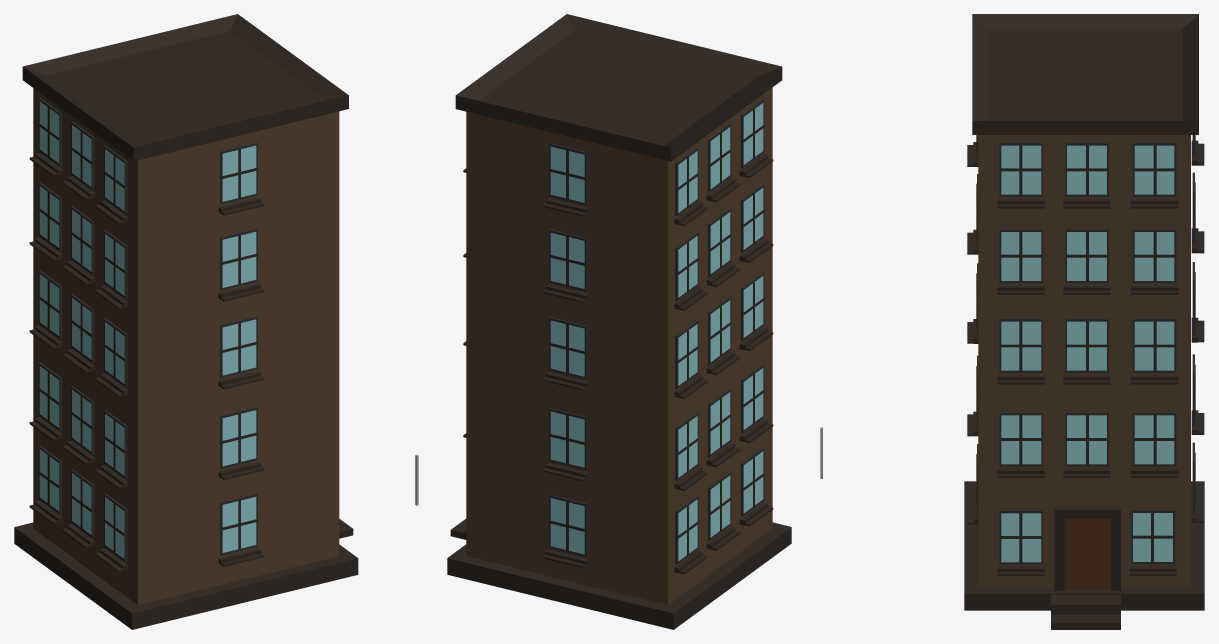
File: basic tall Building.fbx
The picture shows the model from 3 angles, left to right: view 1: azimuth 30°, elevation 25°; view 2: azimuth 150°, elevation 25°; view 3: azimuth 270°, elevation 25°; orthographic projection.
Visible parts, largest first — view 1: pasted__pasted__pasted__pCube1, pasted__pasted__pasted__pasted__pasted__pCube2, pasted__pasted__pasted__pasted__pasted__pasted__pasted__past (×20), pasted__pasted__pasted__pCube2; view 2: pasted__pasted__pasted__pCube1, pasted__pasted__pasted__pasted__pasted__pasted__pasted__past (×25), pasted__pasted__pasted__pasted__pasted__pCube2, pasted__pasted__pasted__pCube2; view 3: pasted__pasted__pasted__pCube1, pasted__pasted__pasted__pasted__pasted__pasted__pasted__past (×15), pasted__pasted__pasted__pasted__pasted__pCube2, pasted__pasted__pasted__pCube2, pasted__pasted__pasted__pasted__pasted__pCube1 (×3), pasted__pasted__pasted__pasted__pCube1.
Boxes of the visible parts, x1=… form: pasted__pasted__pasted__pCube1: x1=33, y1=88, x2=339, y2=604; pasted__pasted__pasted__pasted__pasted__pCube2: x1=22, y1=14, x2=348, y2=161; pasted__pasted__pasted__pasted__pasted__pasted__pasted__past (×20): x1=38, y1=97, x2=257, y2=562; pasted__pasted__pasted__pCube2: x1=14, y1=522, x2=358, y2=629; pasted__pasted__pasted__pCube1: x1=466, y1=87, x2=772, y2=604; pasted__pasted__pasted__pasted__pasted__pasted__pasted__past (×25): x1=543, y1=99, x2=764, y2=568; pasted__pasted__pasted__pasted__pasted__pCube2: x1=455, y1=14, x2=782, y2=161; pasted__pasted__pasted__pCube2: x1=447, y1=522, x2=791, y2=629; pasted__pasted__pasted__pCube1: x1=978, y1=135, x2=1190, y2=587; pasted__pasted__pasted__pasted__pasted__pasted__pasted__past (×15): x1=999, y1=142, x2=1176, y2=629; pasted__pasted__pasted__pasted__pasted__pCube2: x1=972, y1=14, x2=1198, y2=134; pasted__pasted__pasted__pCube2: x1=964, y1=481, x2=1204, y2=610; pasted__pasted__pasted__pasted__pasted__pCube1 (×3): x1=1055, y1=506, x2=1120, y2=590; pasted__pasted__pasted__pasted__pCube1: x1=1054, y1=506, x2=1064, y2=590.
Size of the model in its own units: 10.73 by 18.63 by 13.31.
